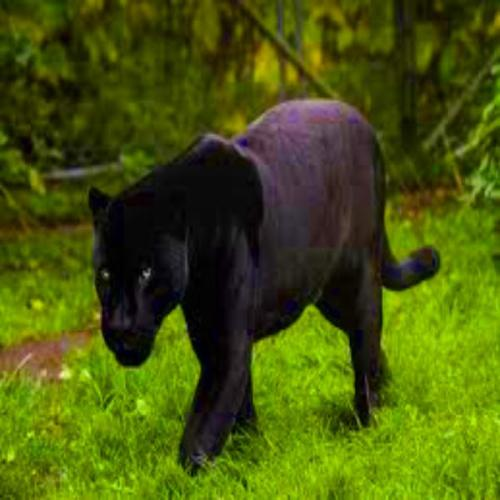panther-endangered: (84, 97, 440, 475)
